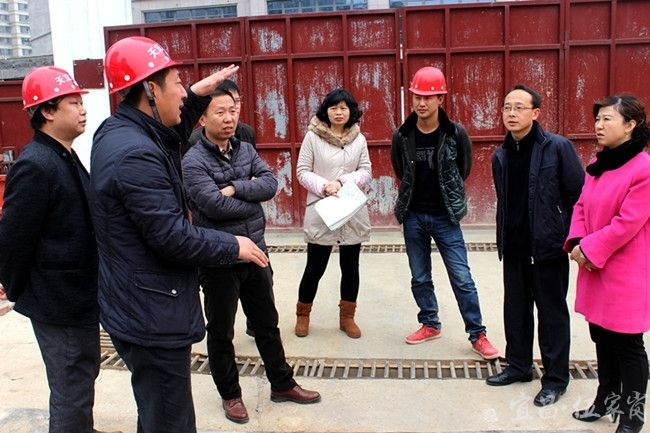none: (587, 90, 642, 157), (496, 82, 544, 141), (195, 85, 241, 143), (316, 85, 357, 134)
red: (102, 29, 188, 129), (17, 58, 93, 146), (404, 63, 449, 123)
